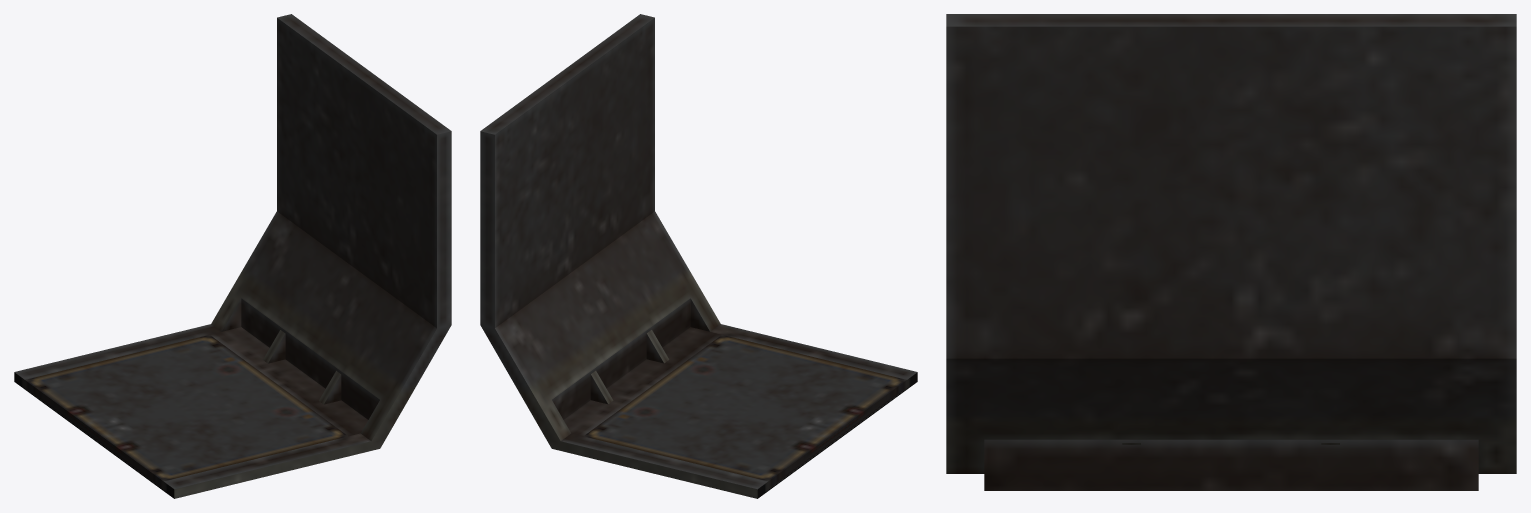
The model's file is Wall_internal_1.FBX.
3 renders of one model, left to right at view 1: azimuth 30°, elevation 25°; view 2: azimuth 150°, elevation 25°; view 3: azimuth 270°, elevation 25°, orthographic. The views are drawn at different scales.
Parts seen in each view (by area): view 1: Wall_internal_1; view 2: Wall_internal_1; view 3: Wall_internal_1.
Part boxes in pixels (box(x1,y1,x2,y2)): Wall_internal_1: box(14, 14, 451, 498); Wall_internal_1: box(480, 14, 917, 498); Wall_internal_1: box(946, 14, 1516, 490).
Size of the model in its own units: 300 by 310 by 300.
